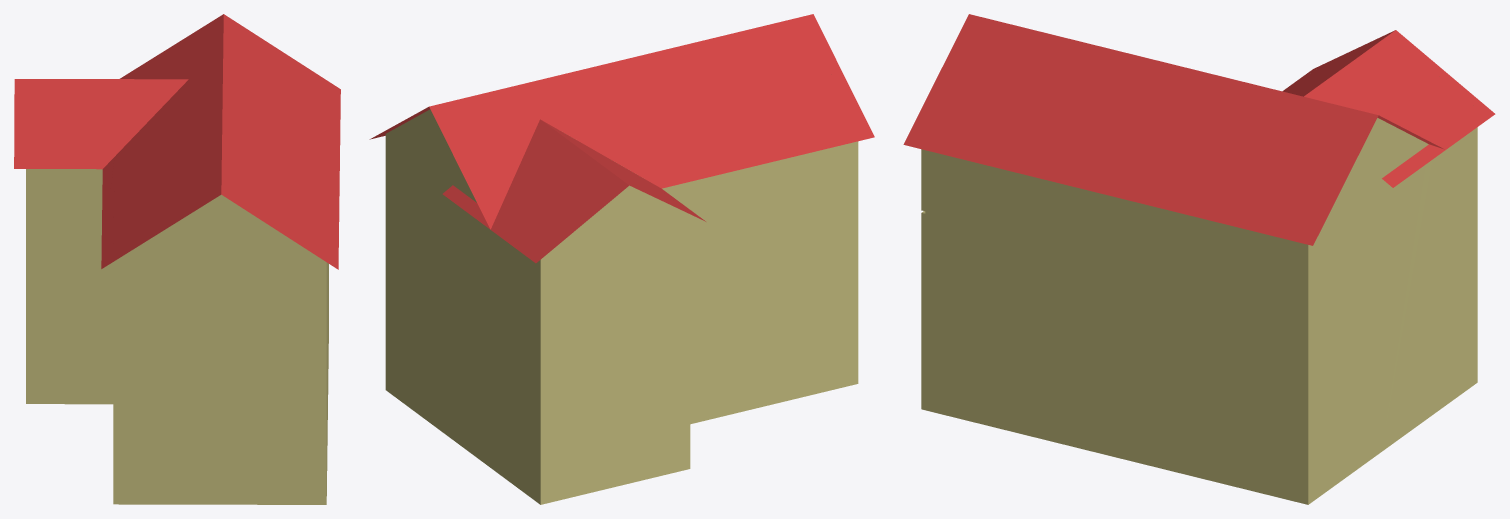
3 renders of one model, left to right at view 1: azimuth 30°, elevation 25°; view 2: azimuth 150°, elevation 25°; view 3: azimuth 270°, elevation 25°, orthographic. The views are drawn at different scales.
Bounding box in the file's own units: 17.69 × 22.44 × 14.63.
